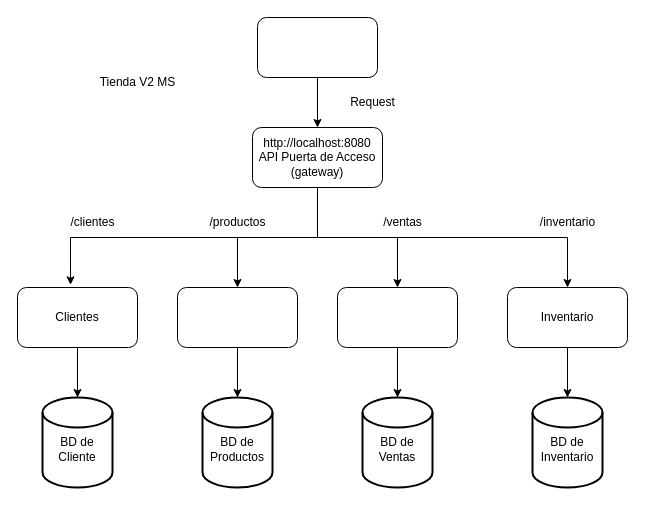
Image size: 645x506. Some labels were removed from this diagram. Each missing label, with the box of its shape:
Productos: (176, 286, 298, 348)
UI: (256, 16, 378, 78)
Ventas: (336, 286, 458, 348)
